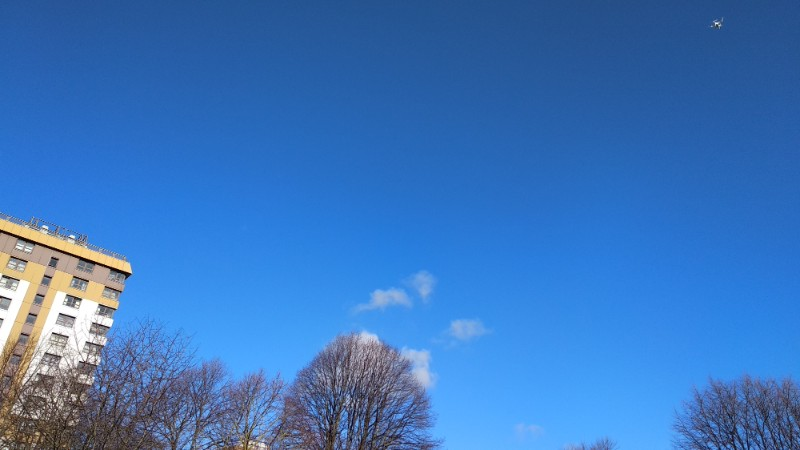drone: (709, 16, 725, 31)
